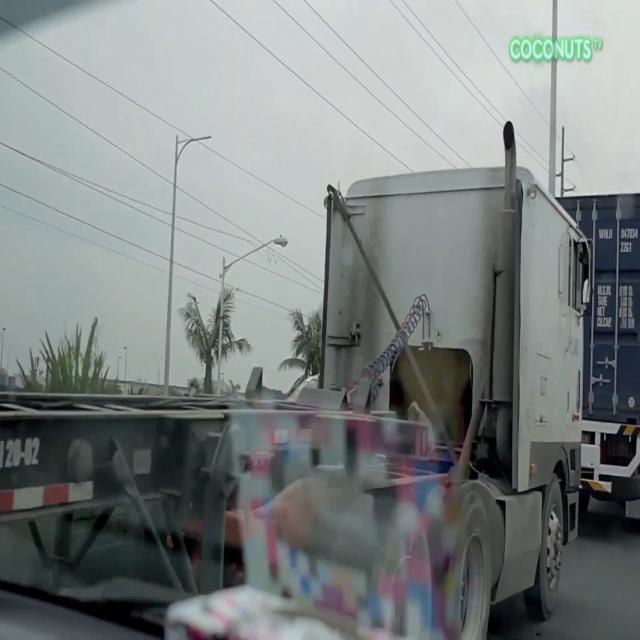truck: (0, 117, 587, 638), (562, 190, 640, 548)
